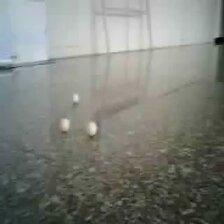w: (85, 121, 99, 137), (58, 118, 70, 133), (72, 93, 79, 103)
